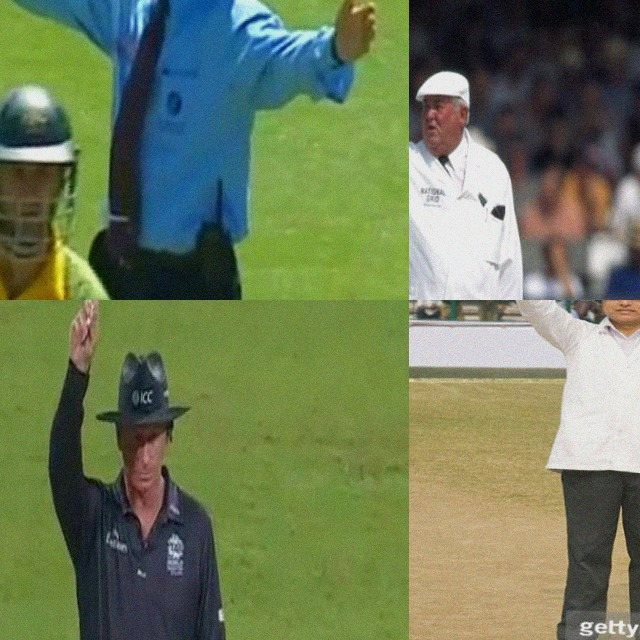Out: (36, 300, 246, 640), (409, 36, 538, 300)
Six: (471, 300, 640, 640)
Wide: (0, 0, 395, 178)
